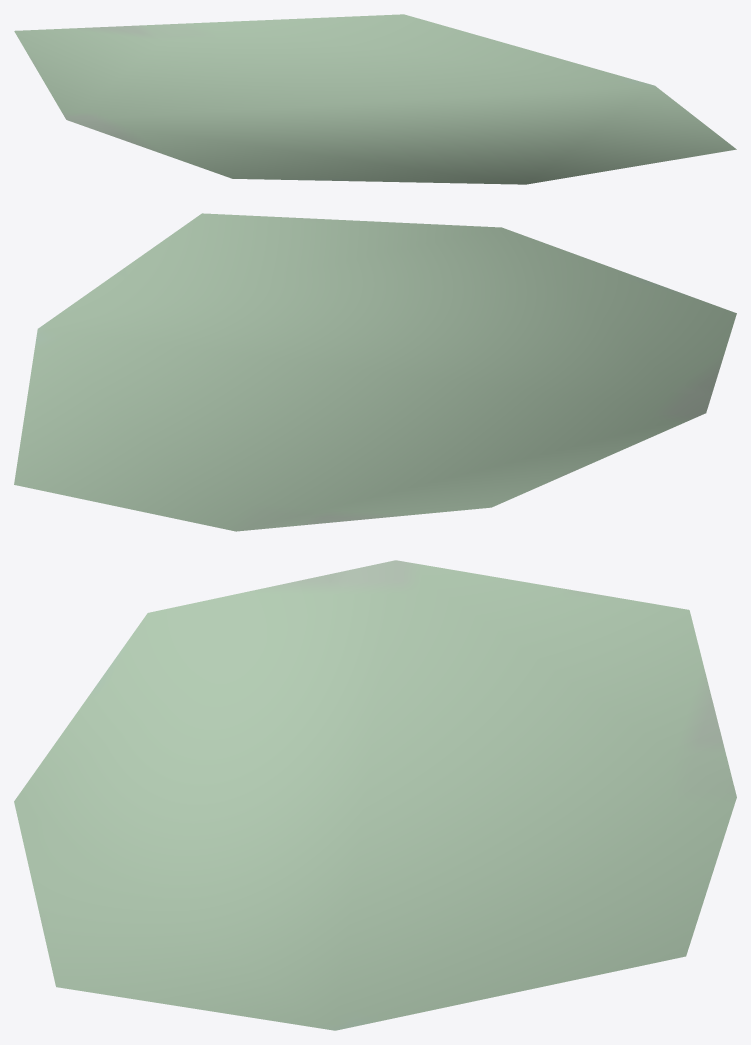
File: TROLLHOLE02_HOLECAP187.fbx
3 renders of one model, top to bottom at view 1: azimuth 30°, elevation 25°; view 2: azimuth 150°, elevation 25°; view 3: azimuth 270°, elevation 25°, orthographic. The views are drawn at different scales.
Parts seen in each view (by area): view 1: TROLLHOLE02_HOLECAP187; view 2: TROLLHOLE02_HOLECAP187; view 3: TROLLHOLE02_HOLECAP187.
Part boxes in pixels (box(x1,y1,x2,y2)): TROLLHOLE02_HOLECAP187: box(14, 14, 736, 184); TROLLHOLE02_HOLECAP187: box(14, 213, 736, 531); TROLLHOLE02_HOLECAP187: box(14, 560, 736, 1030).
Size of the model in its own units: 16361 by 2396 by 13959.
Materials: 1 (1 with a texture image).
